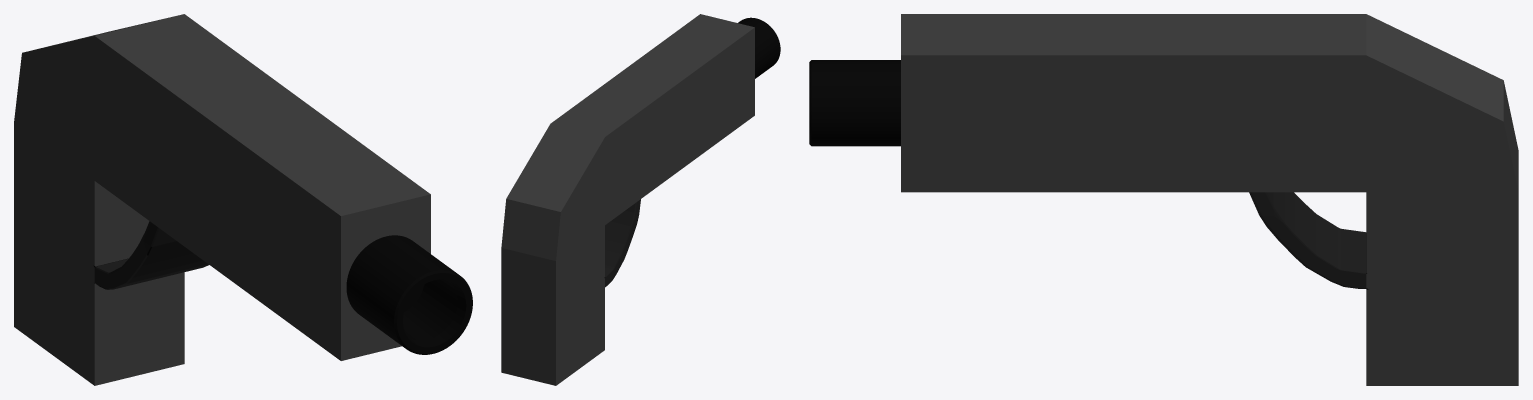
The model's file is gun1.glb.
3 renders of one model, left to right at view 1: azimuth 30°, elevation 25°; view 2: azimuth 150°, elevation 25°; view 3: azimuth 270°, elevation 25°, orthographic. The views are drawn at different scales.
Parts seen in each view (by area): view 1: Cylinder; view 2: Cylinder; view 3: Cylinder.
Part boxes in pixels (box(x1,y1,x2,y2)): Cylinder: box(14, 14, 472, 385); Cylinder: box(501, 14, 780, 385); Cylinder: box(809, 14, 1518, 385).
Size of the model in its own units: 0.0644 by 0.2398 by 0.4663.
Materials: 1 (1 with a texture image).
